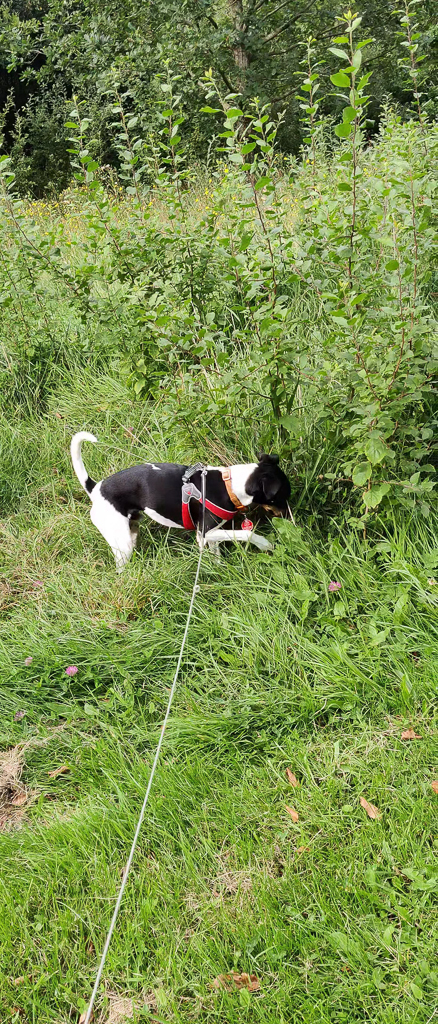Dog: (66, 423, 308, 579)
